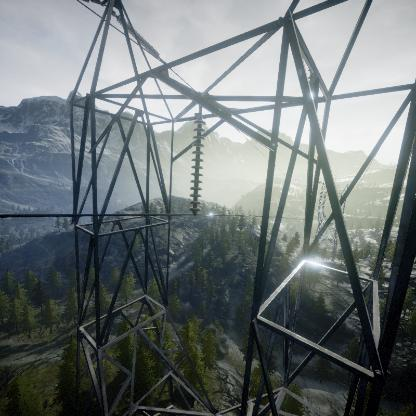insulator: (188, 115, 208, 213)
